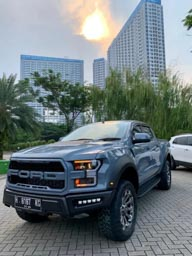plat: (12, 196, 41, 212)
